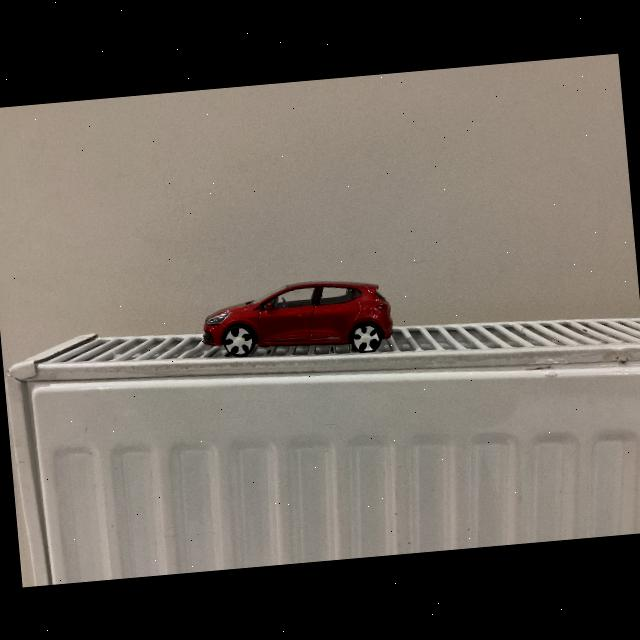Yanlis_Jant: (223, 326, 254, 356), (351, 324, 380, 352)
